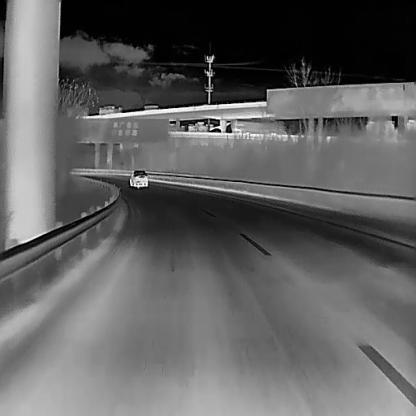car: (130, 169, 148, 186)
